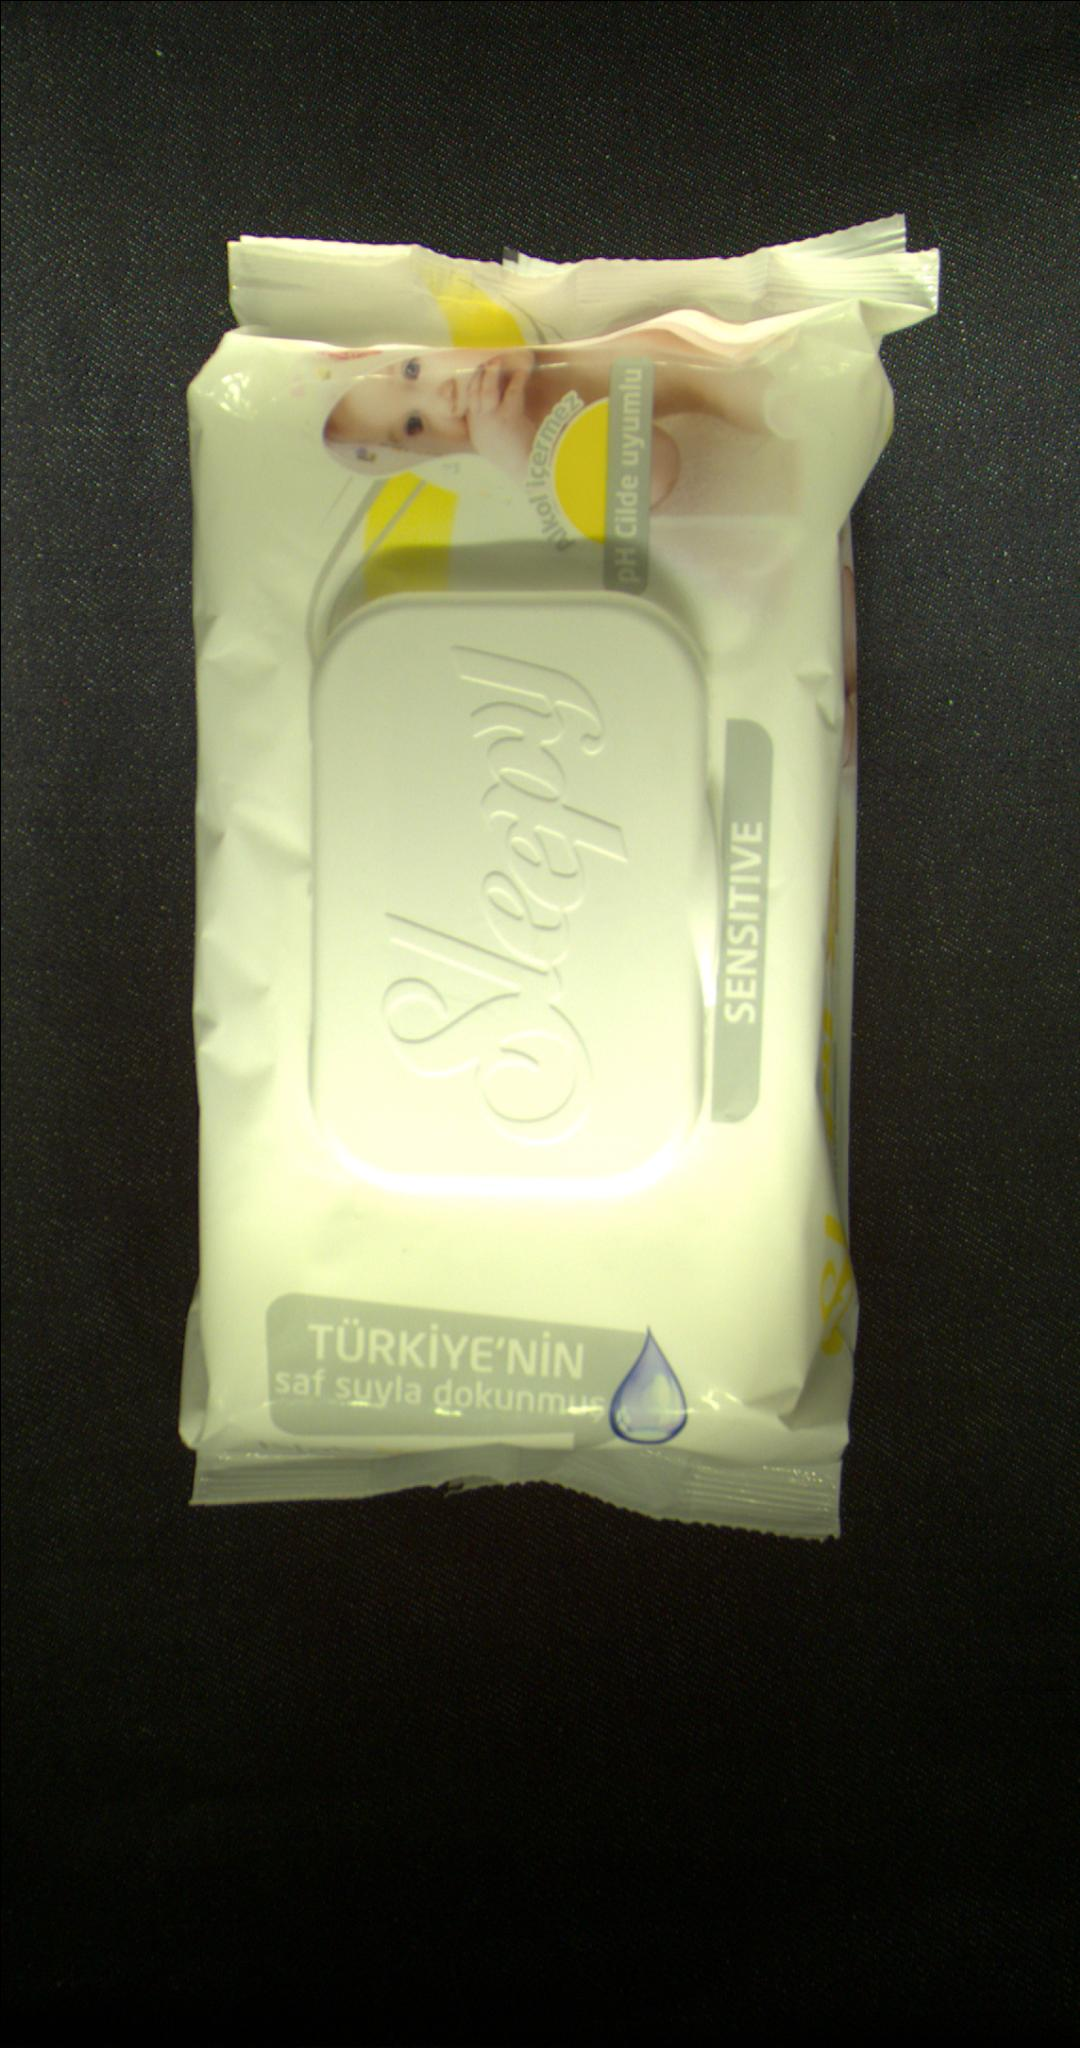kapak: (302, 592, 697, 1192)
